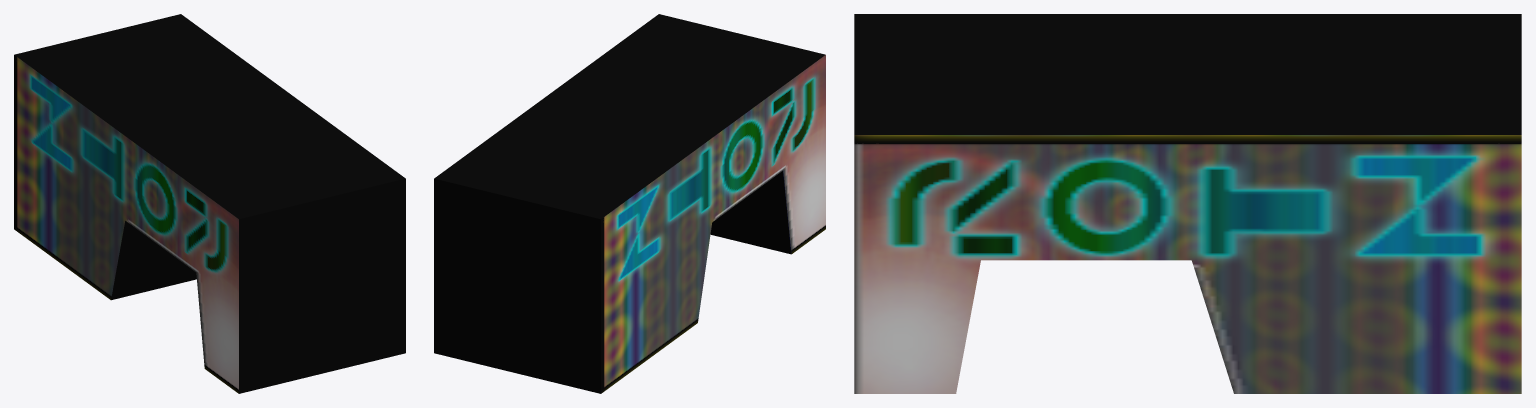
The model's file is rotngame_wtf.obj.
3 views of the same model, side by side, from view 1: azimuth 30°, elevation 25°; view 2: azimuth 150°, elevation 25°; view 3: azimuth 270°, elevation 25° (orthographic). The views are drawn at different scales.
Parts seen in each view (by area): view 1: group2; view 2: group2; view 3: group2.
Boxes of the visible parts, x1,y1,x2,y2 form: group2: (14,14,405,393); group2: (434,14,825,393); group2: (854,14,1521,393).
Bounding box in the file's own units: 283 × 283 × 660.
